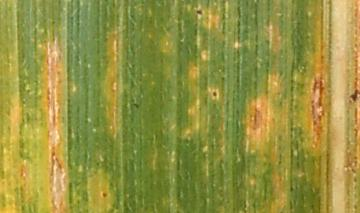tarspot: (348, 86, 360, 106), (207, 88, 219, 99), (195, 7, 205, 18), (99, 190, 110, 199)
